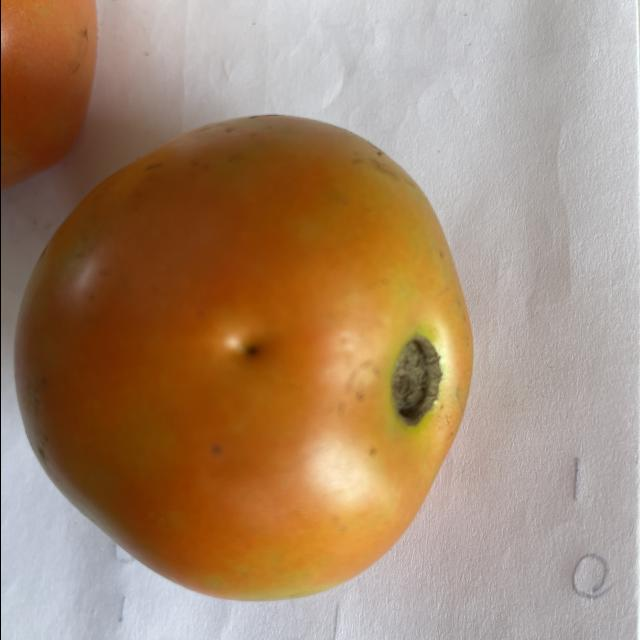fruitworm_bore: (234, 321, 272, 372)
